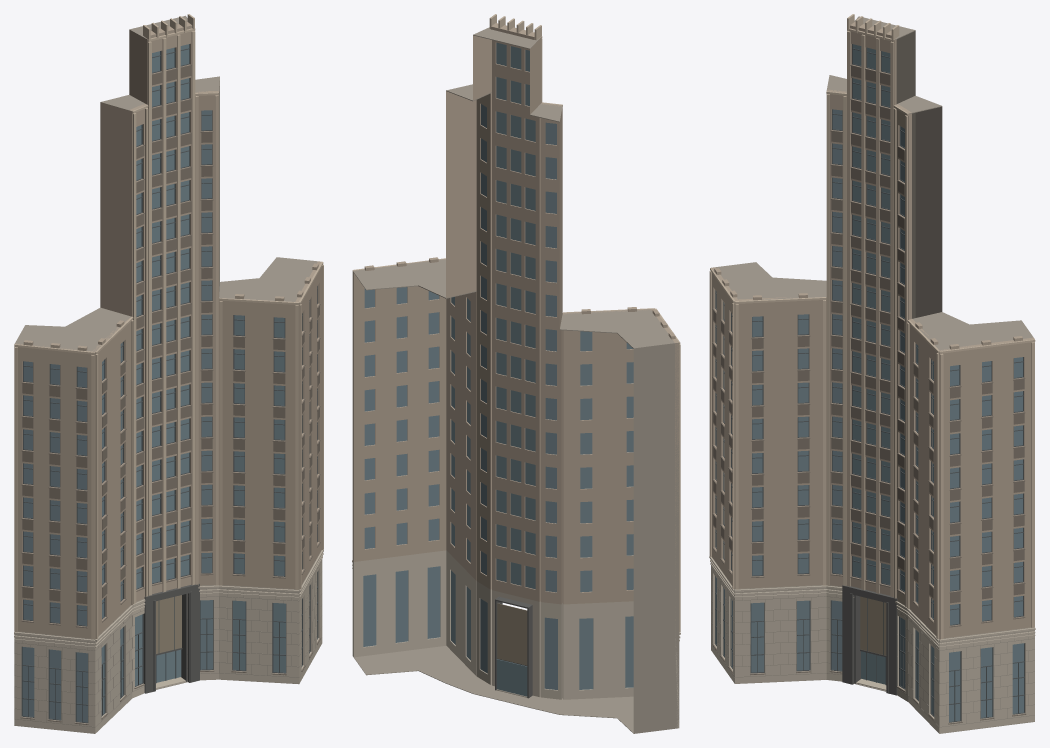
File: huangpu-development-building-lod.glb
3 views of the same model, side by side, from view 1: azimuth 30°, elevation 25°; view 2: azimuth 150°, elevation 25°; view 3: azimuth 330°, elevation 25° (orthographic).
Parts seen in each view (by area): view 1: 建设大楼（福州路口凹入塔面）; view 2: 建设大楼（福州路口凹入塔面）; view 3: 建设大楼（福州路口凹入塔面）.
Part boxes in pixels (x1,y1,x2,y2): 建设大楼（福州路口凹入塔面）: [14, 14, 323, 733]; 建设大楼（福州路口凹入塔面）: [352, 14, 680, 733]; 建设大楼（福州路口凹入塔面）: [709, 14, 1035, 733].
Size of the model in its own units: 34.08 by 67.97 by 9.84.
